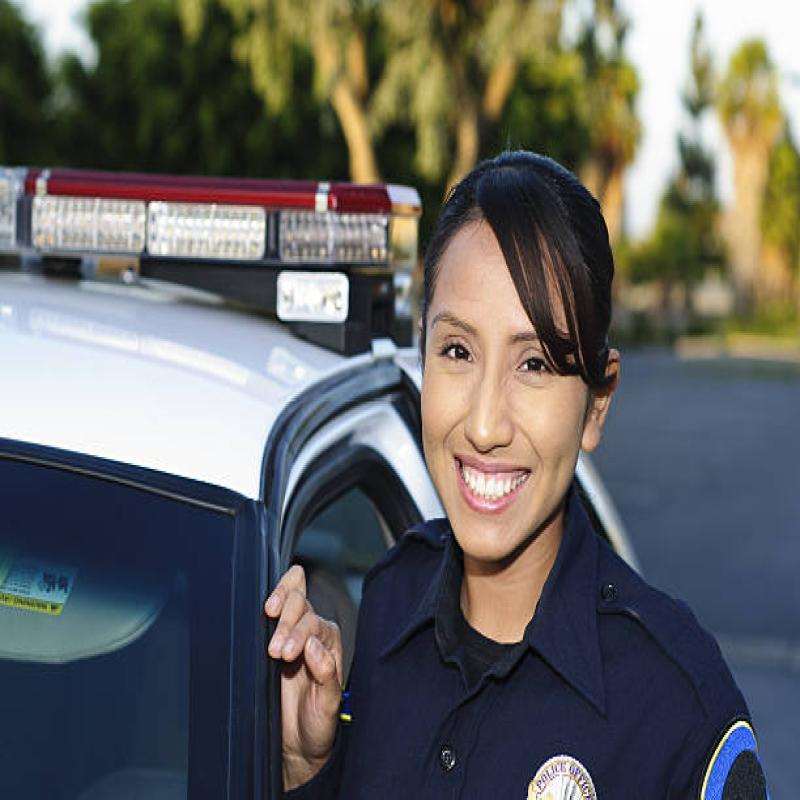AmbulanceSiren: (0, 127, 417, 317)
